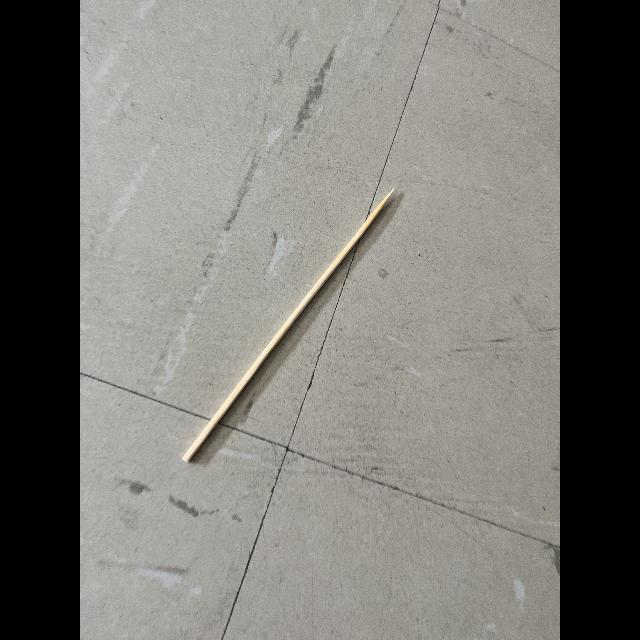stick: (170, 180, 402, 474)
